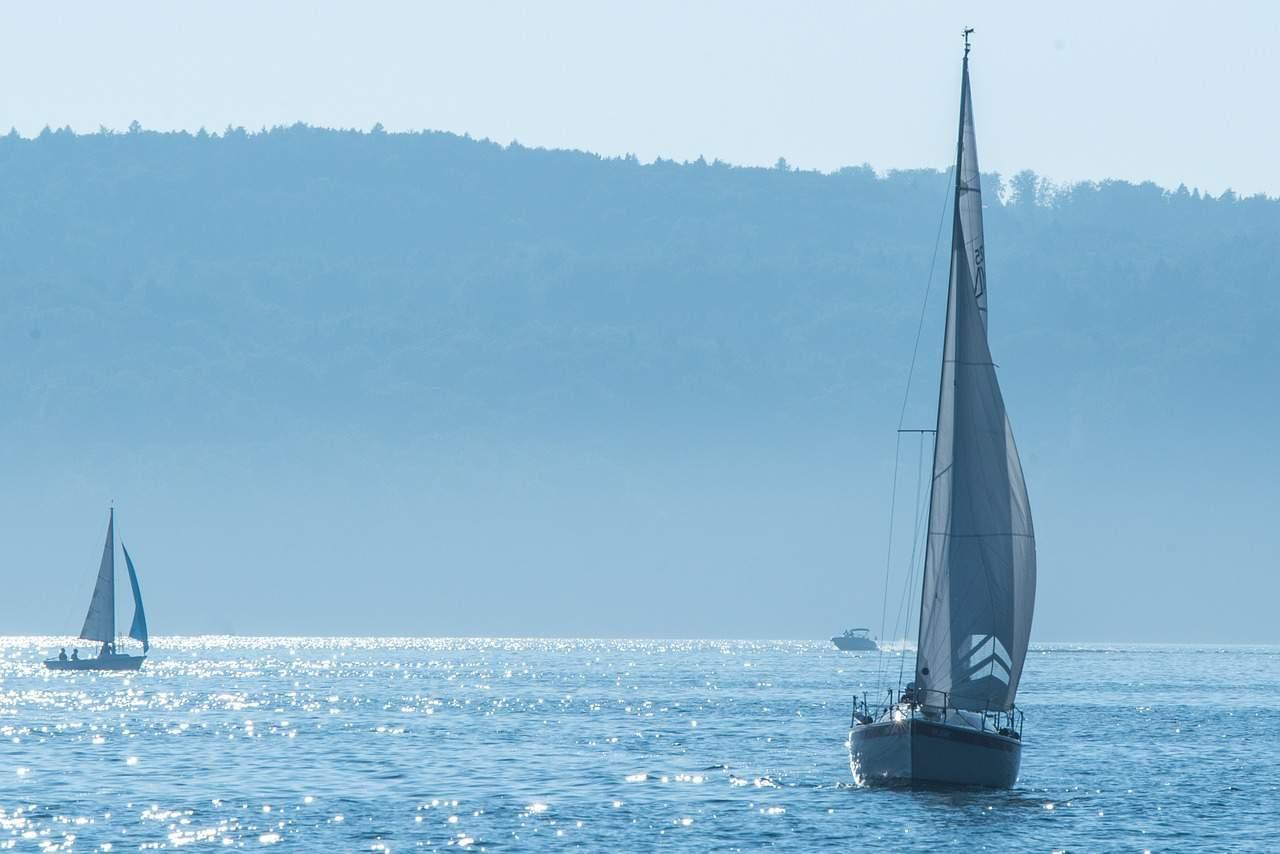Ship: (845, 26, 1038, 793), (46, 506, 151, 672)
